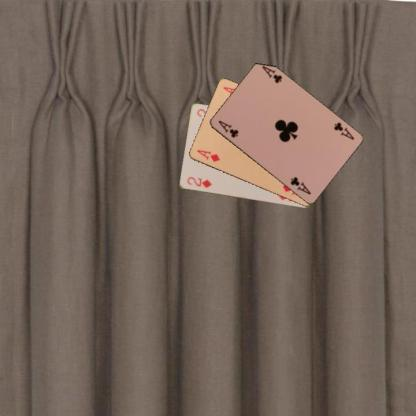2d: (184, 174, 213, 190)
Ac: (215, 117, 240, 139), (331, 120, 355, 141)
Ad: (194, 148, 221, 164)
